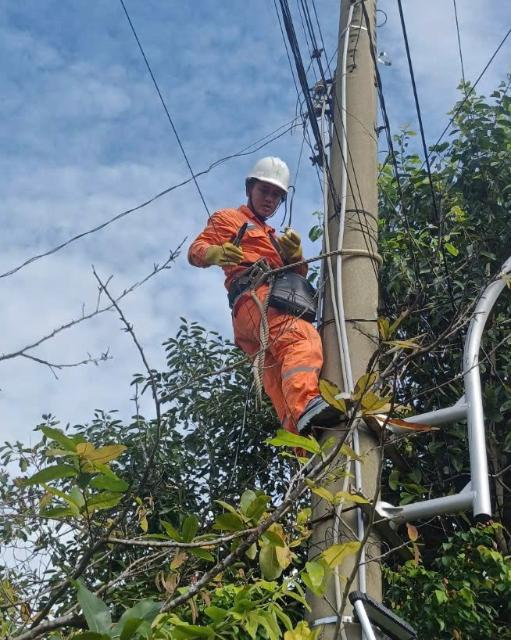gloves: (270, 219, 315, 270), (196, 239, 251, 272)
harness: (201, 255, 309, 297)
helmet: (240, 142, 301, 196)
shoes: (286, 386, 370, 435)
